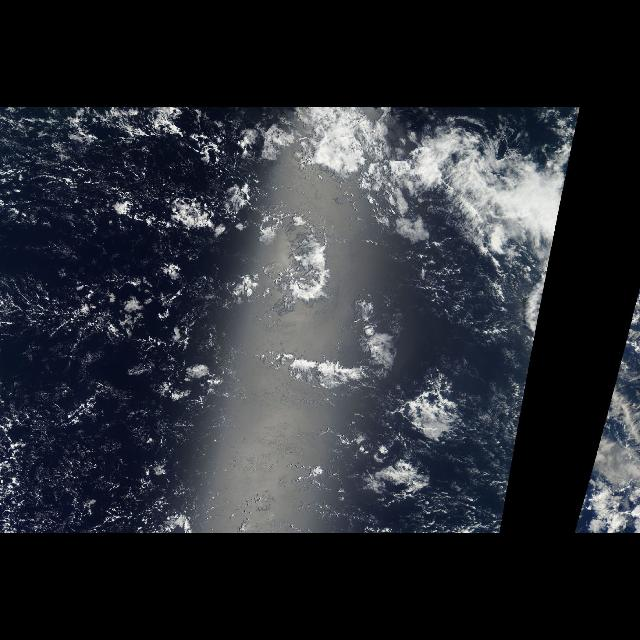Gravel: (0, 260, 182, 530)
